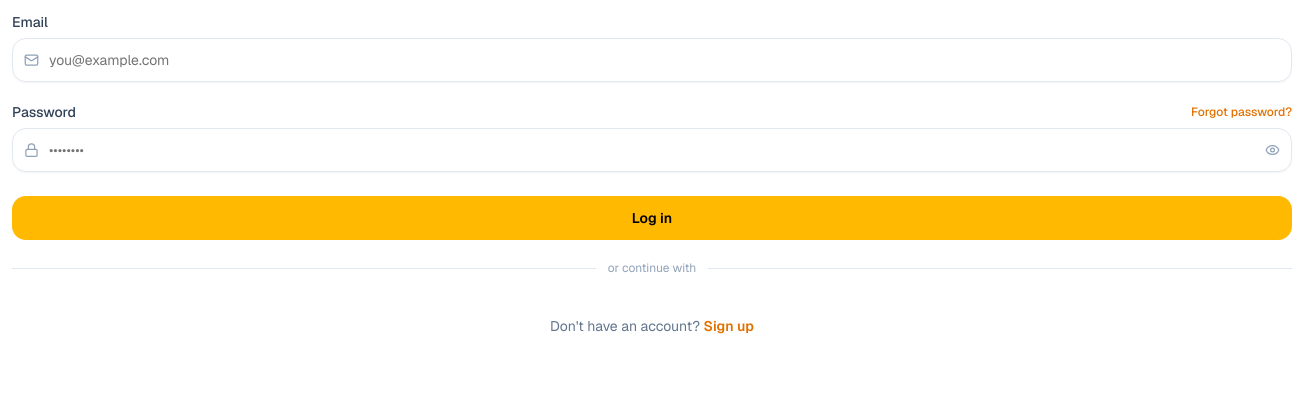
Test: LoginForm › shows zod validation error when submitted with empty email
Click the button "Log in".
click(652, 218)  # box [12,196,1292,240]
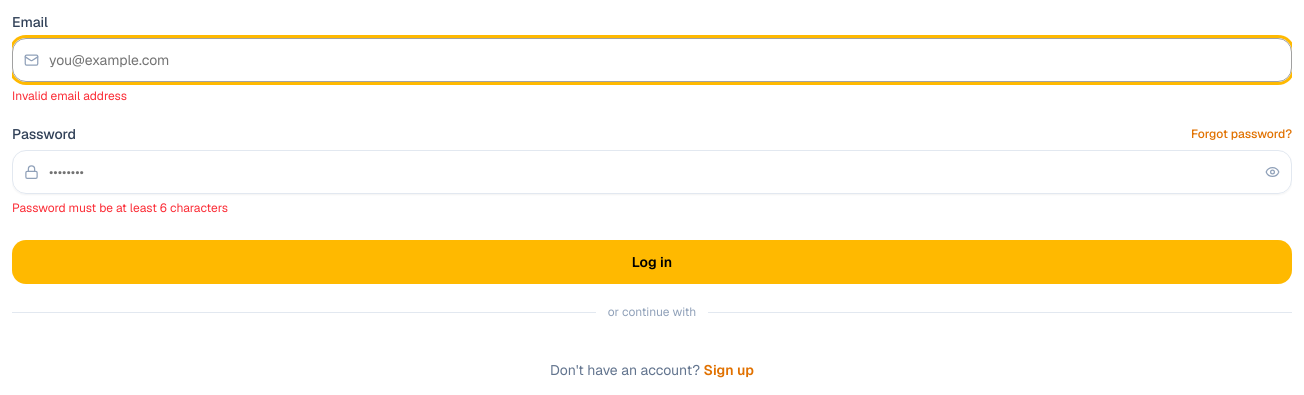
Expected: the text "Invalid email address" is shown, [12,88,127,104]
